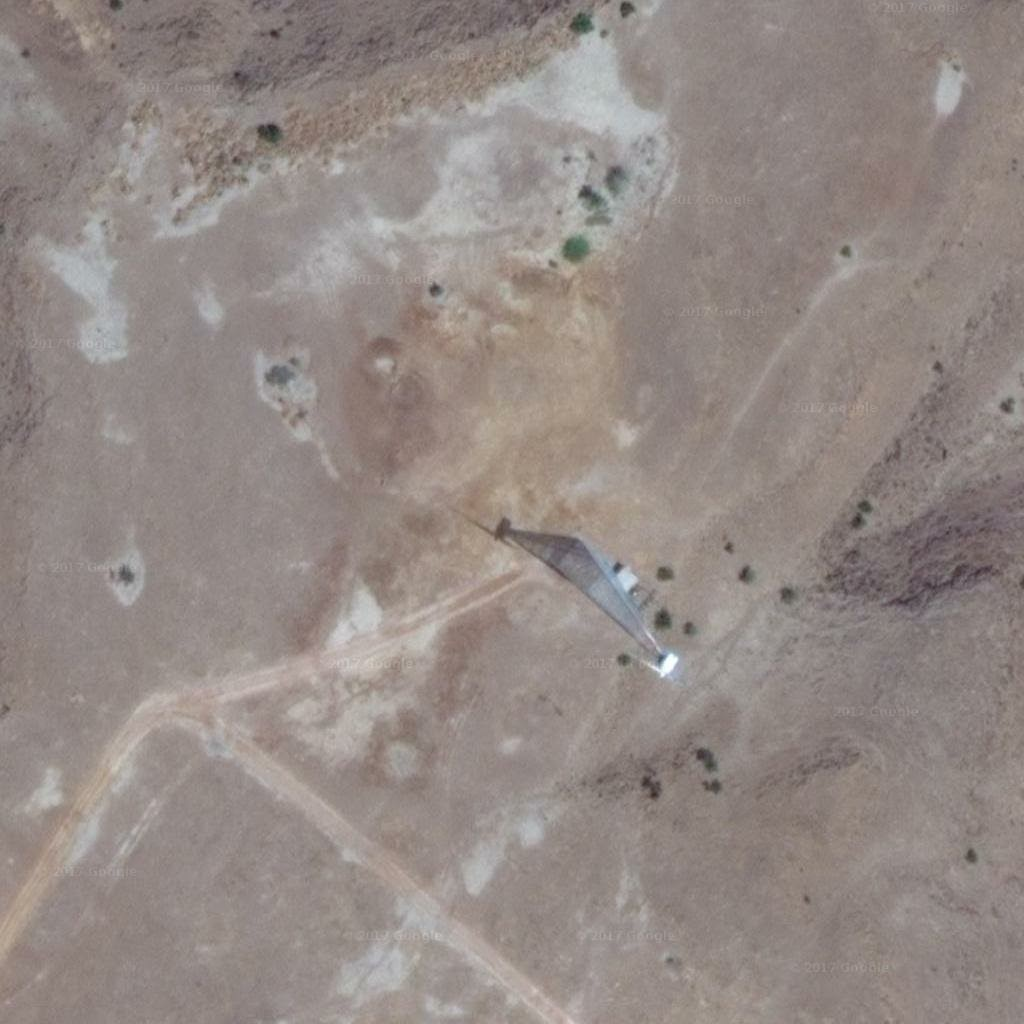Windmill: (459, 506, 667, 655)
